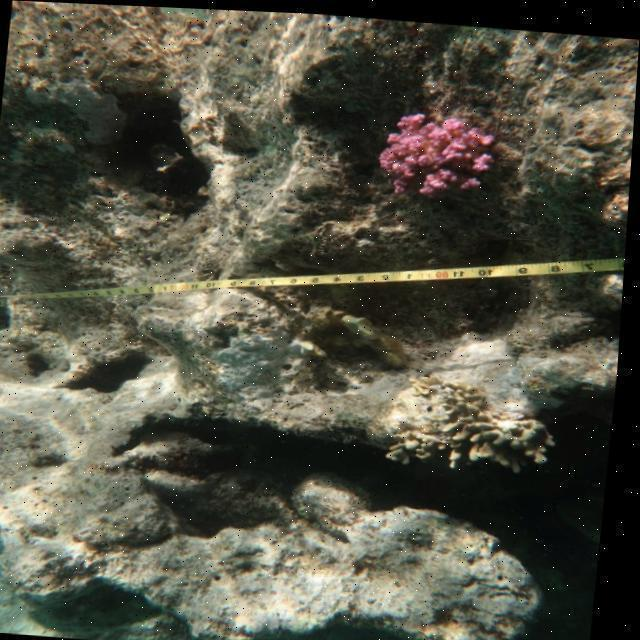Healthy Coral: (372, 100, 510, 205)
